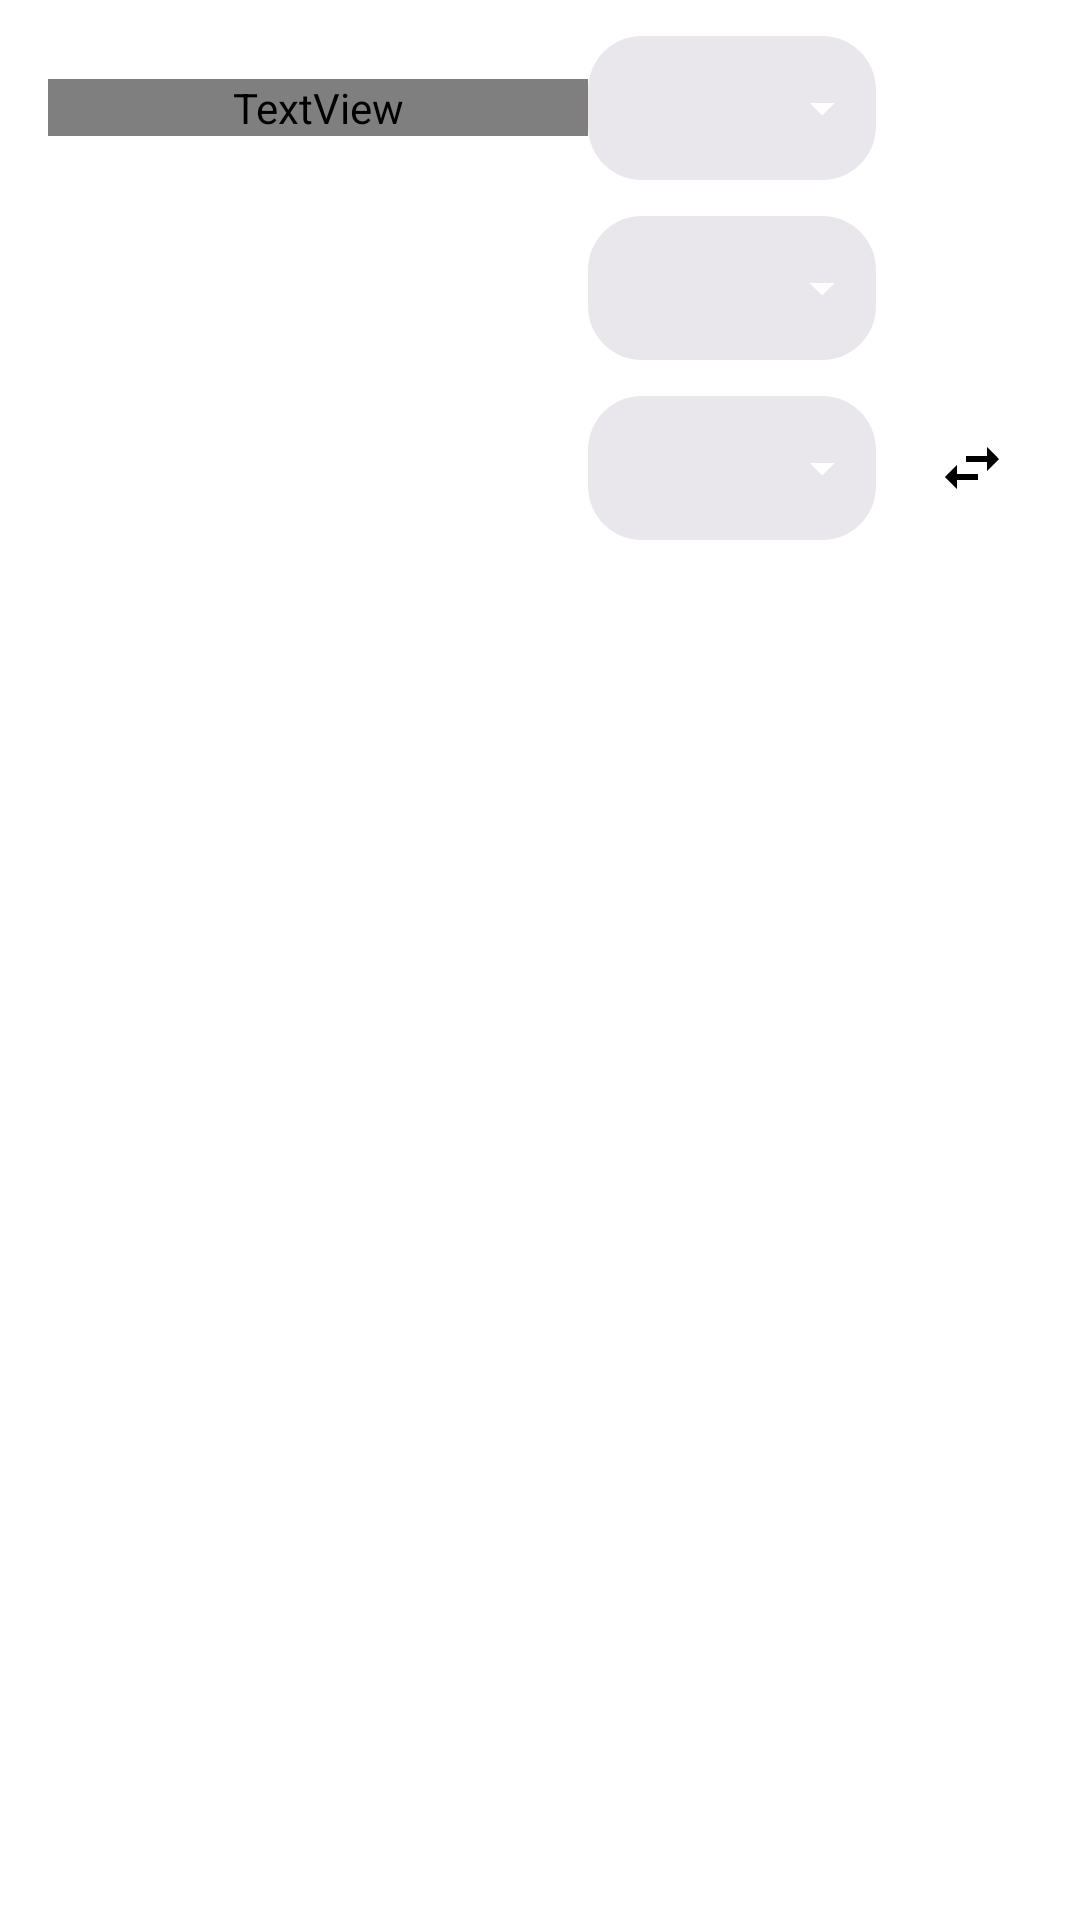

Screen size 1080 x 1920. Icon name, then its center in pixels as point (x, y):
Swap units: point (972, 468)
